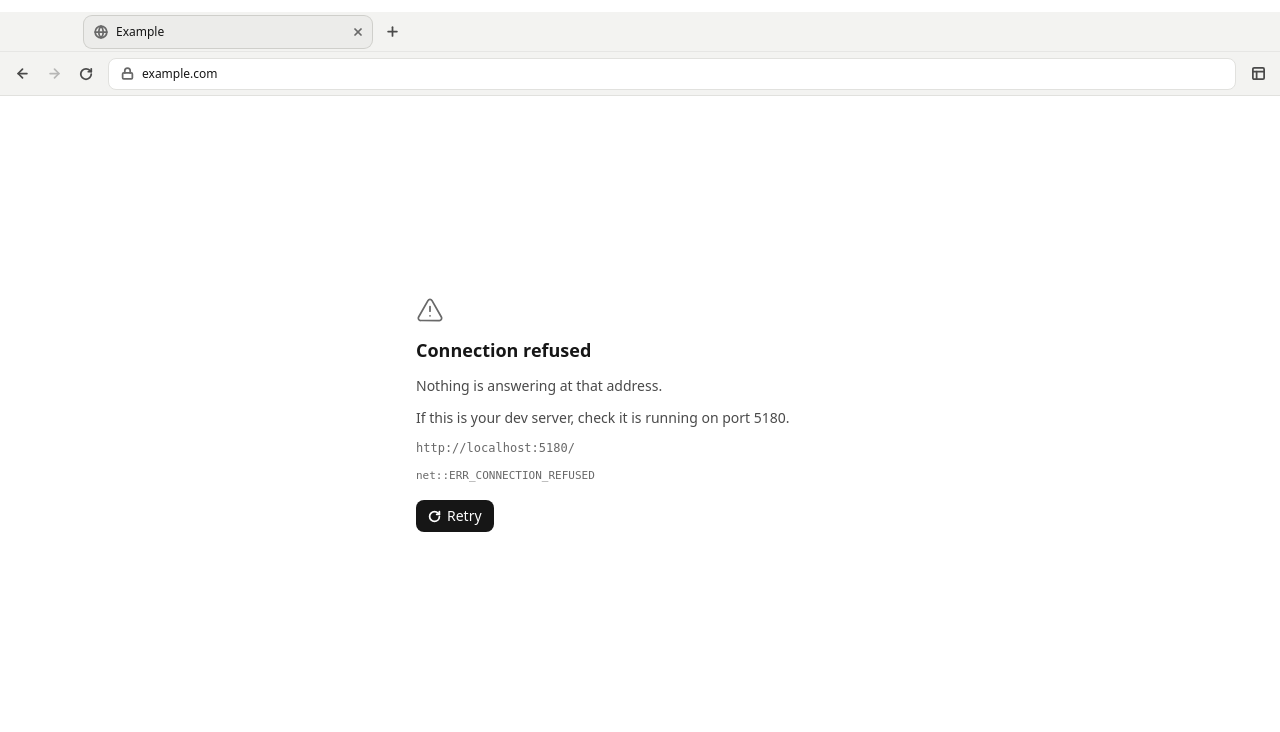
detached Dive window › explains a failed page load the way the main window does, with its own retry
Expected: the message "Connection refused" shows "net::ERR_CONNECTION_REFUSED", [416,469,595,482]
What coordinates should you click on to do the following:
click the button "Retry"
I would click on:
 (455, 516)
Its box is [416,500,494,532].
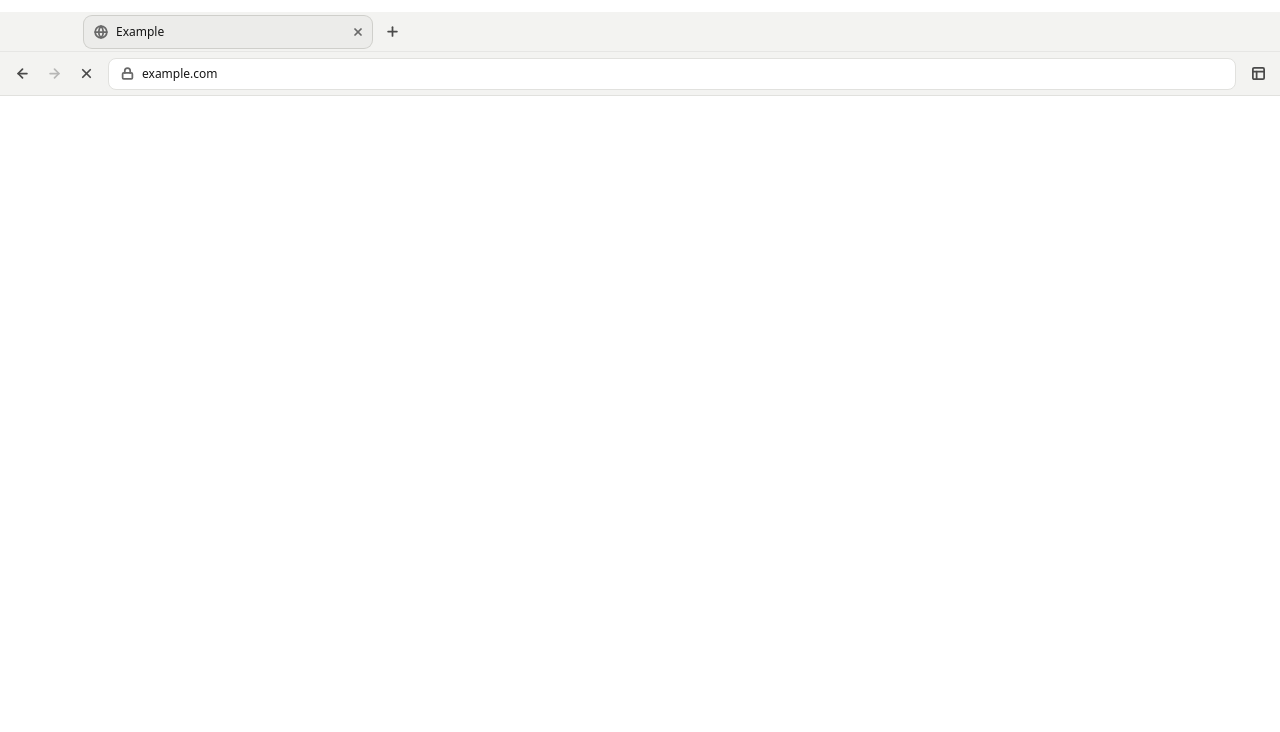
Expected: the heading "Connection refused" is gone
